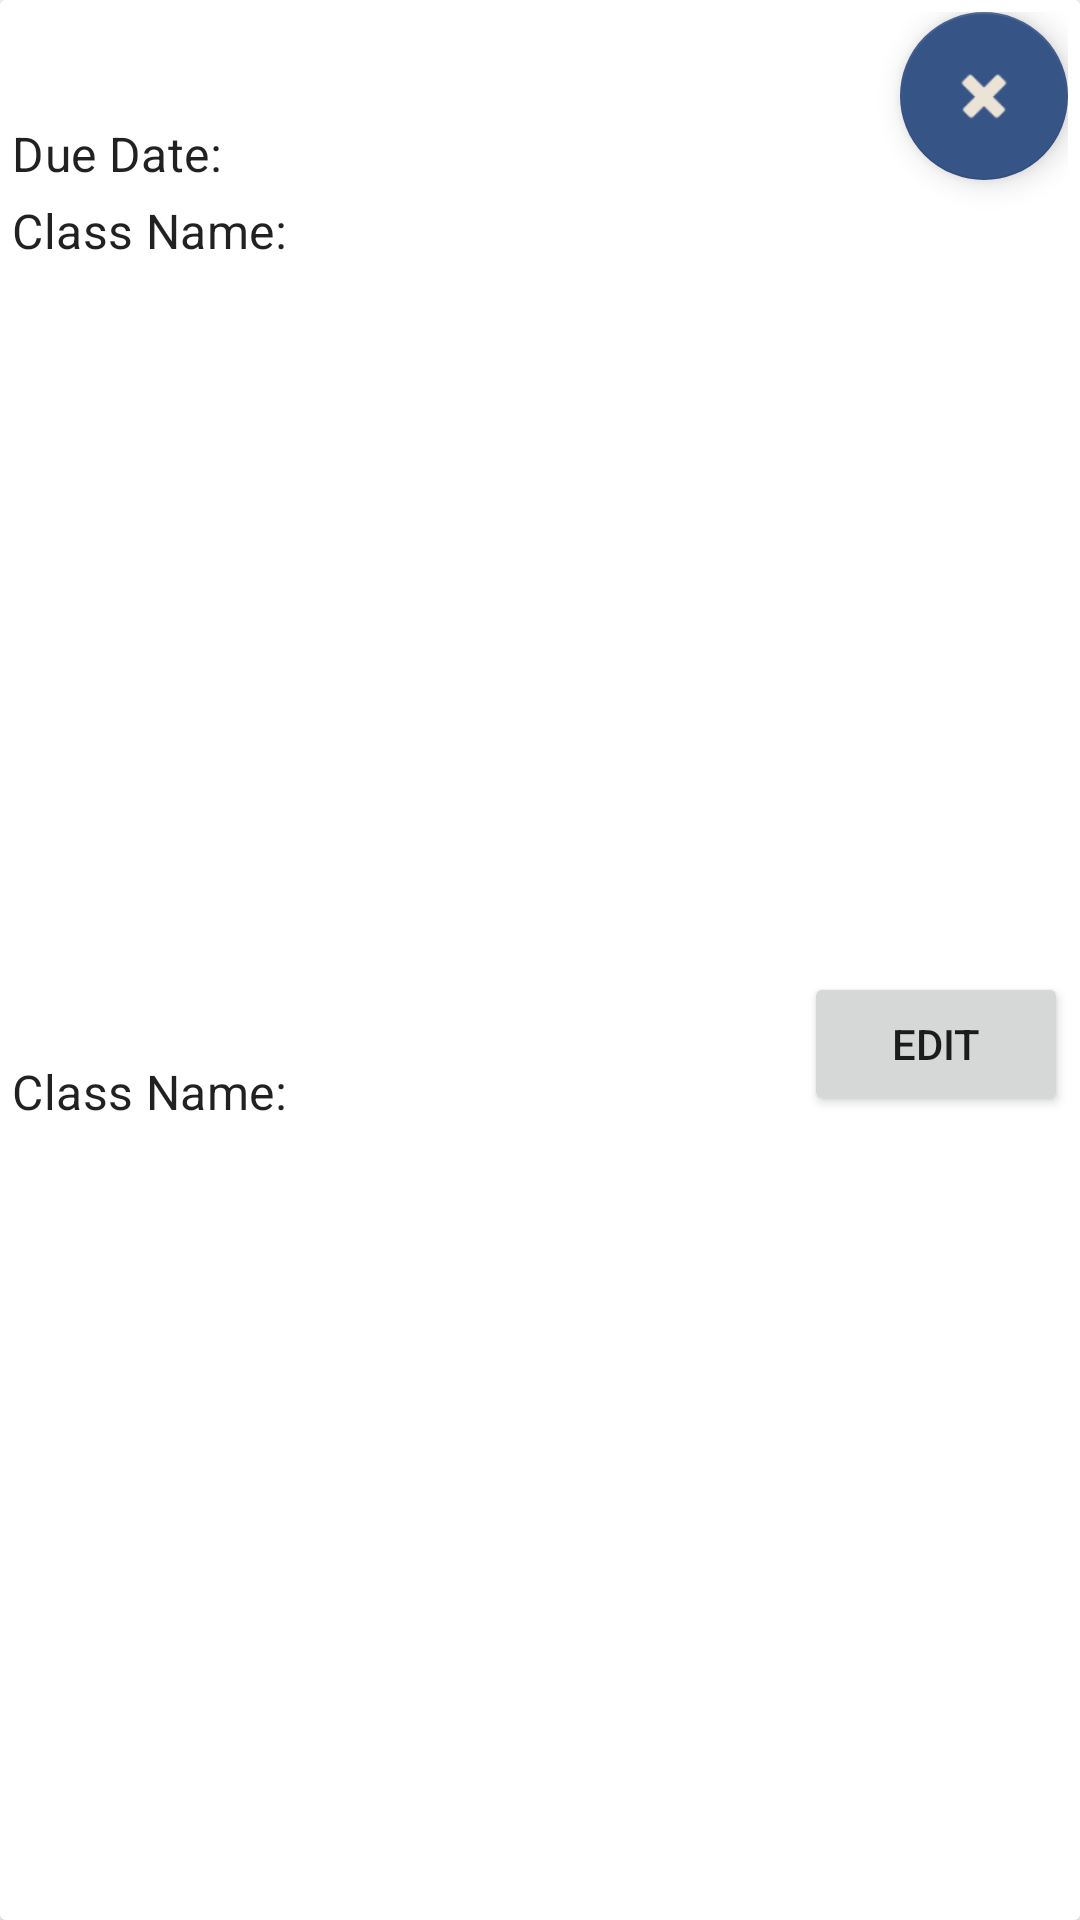

Icon click points for this 1080×1920 phone screenshot, format point (x, y):
delete: point (984, 96)
